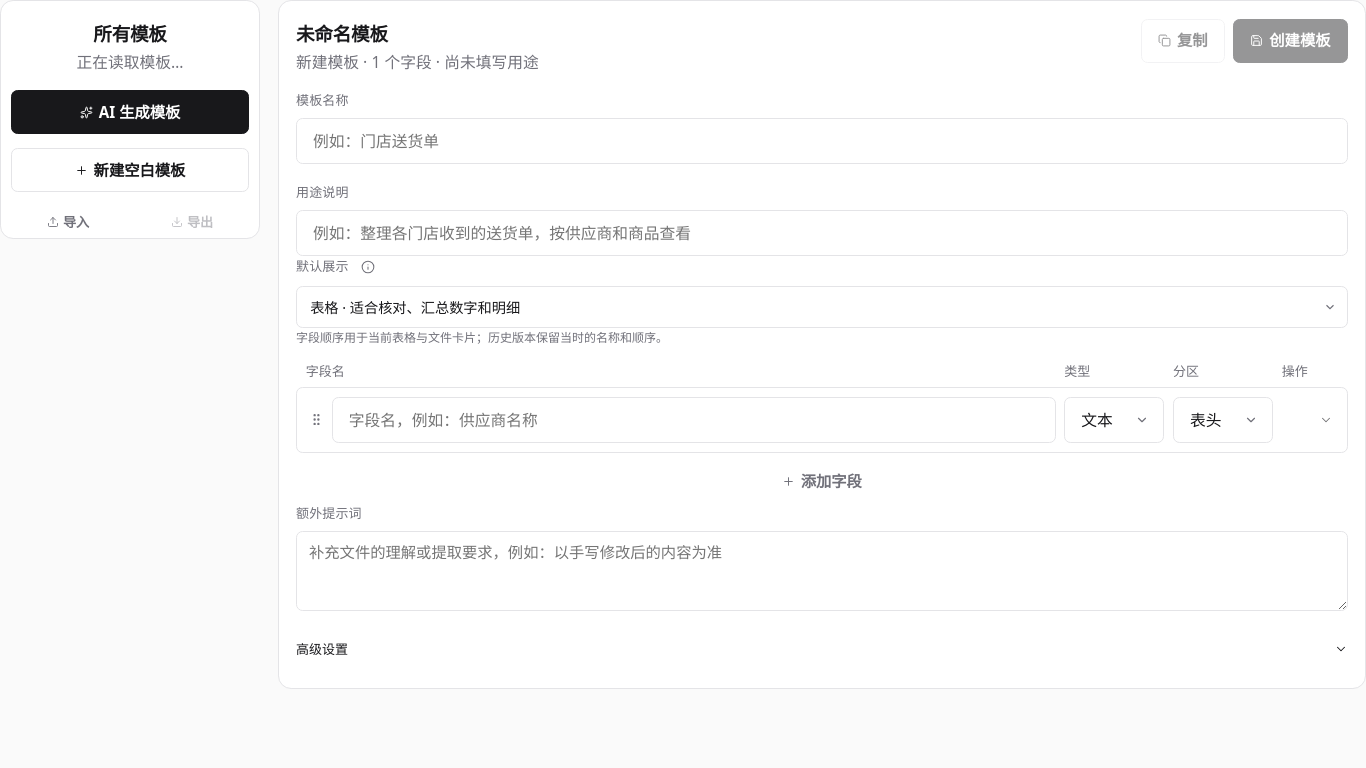
Test: template catalog read boundaries › does not replay an initial route selection over a newly started draft
Click the button "新建空白模板": [130, 170] box [11,148,249,192]
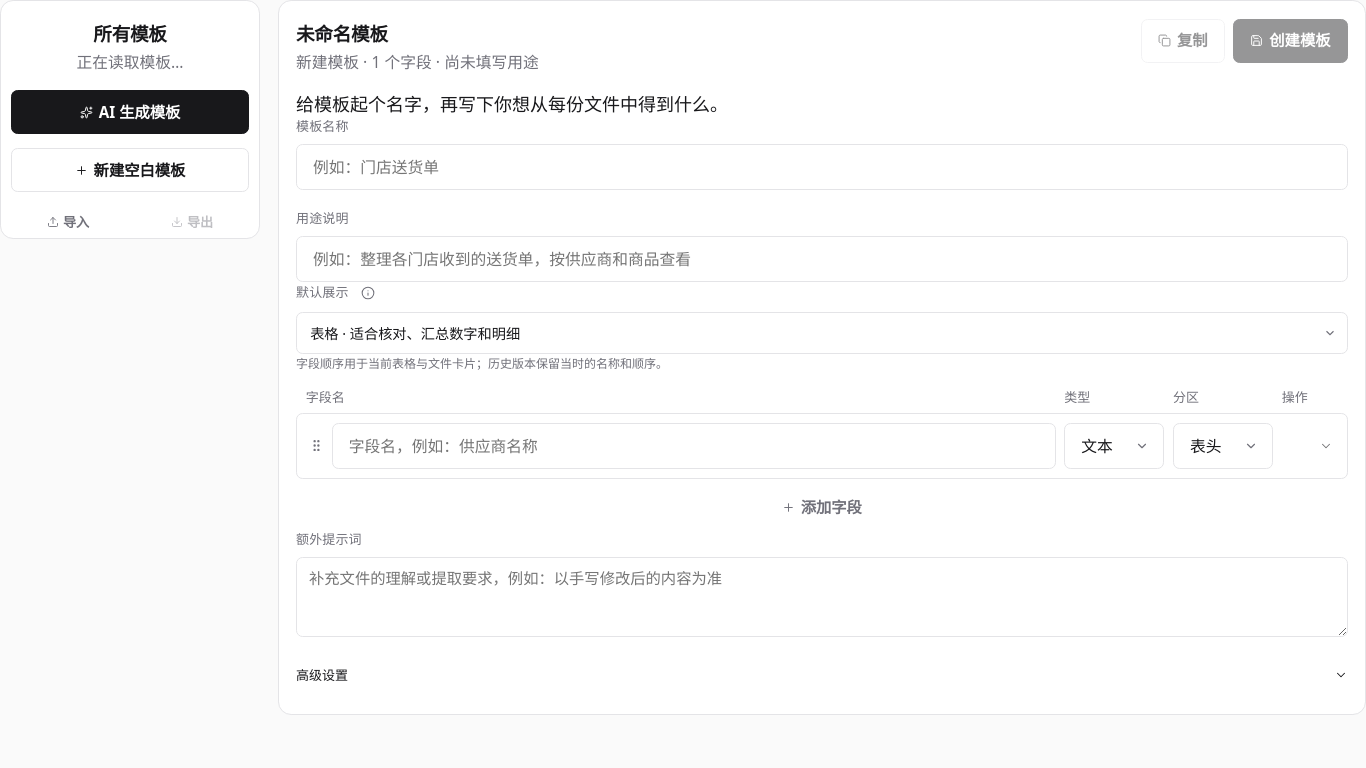
In the field labelled "模板名称": [822, 167] box [296,144,1348,190], type "新的工作"
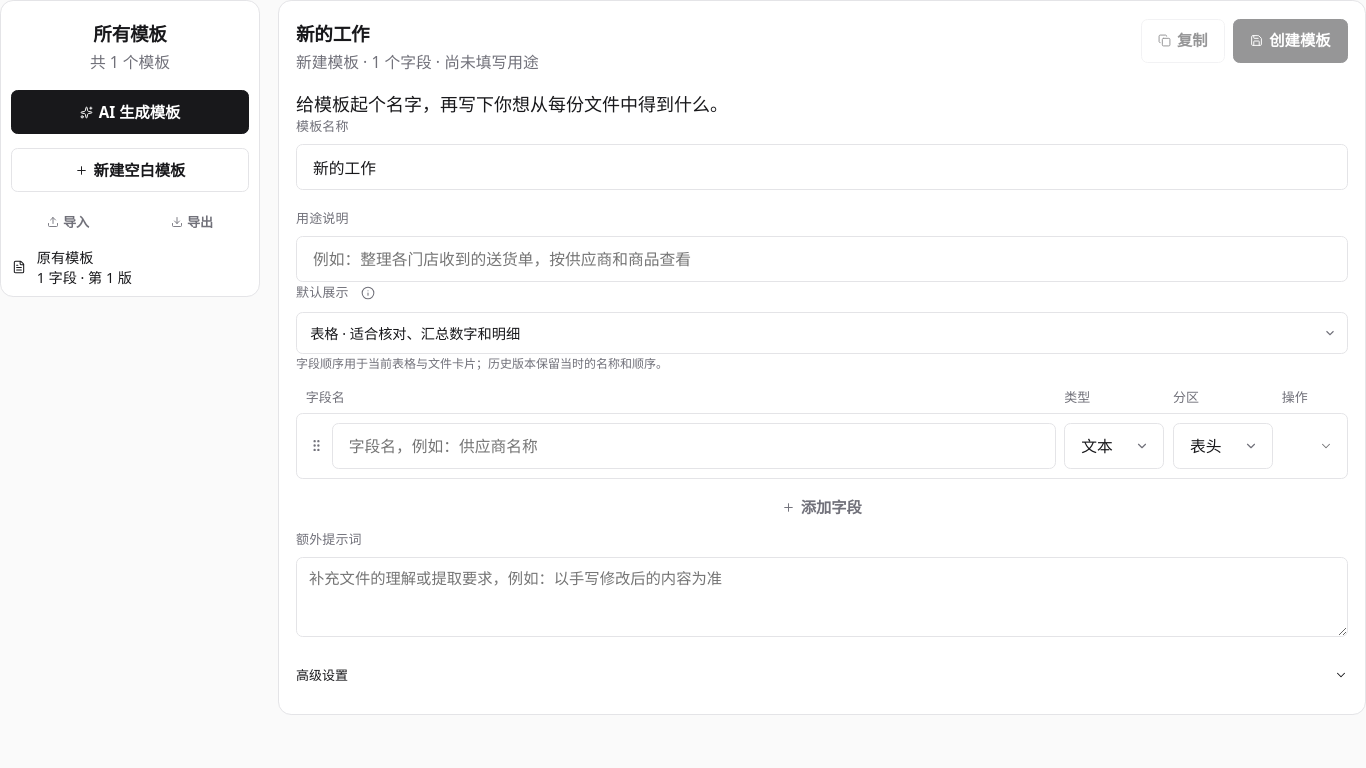
Expected: the heading "新的工作" is shown, [296,20,369,46]
